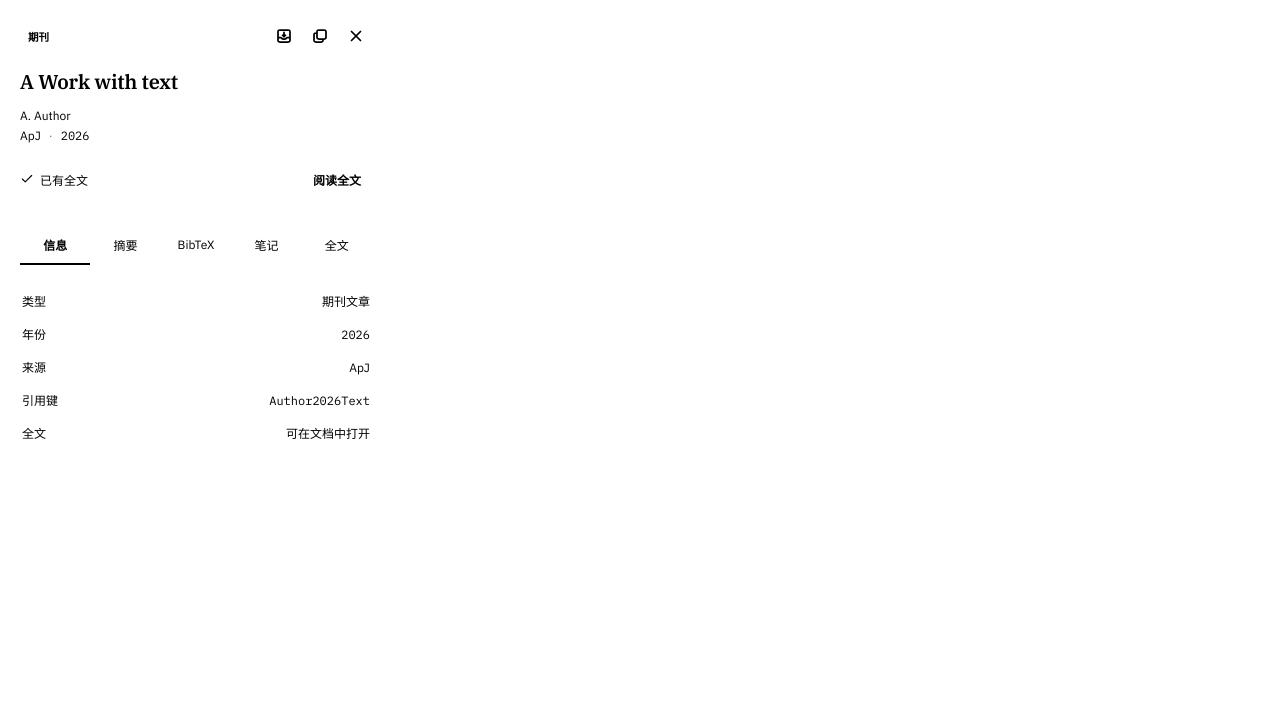
Scenario: RefDetail text Docs (ticket 25) › delete confirmation count for a text Doc › a never-generated draft with no annotations directory is a known zero, like the Copilot card
Click the tab "全文".
click(337, 246)  # box [302,227,372,265]
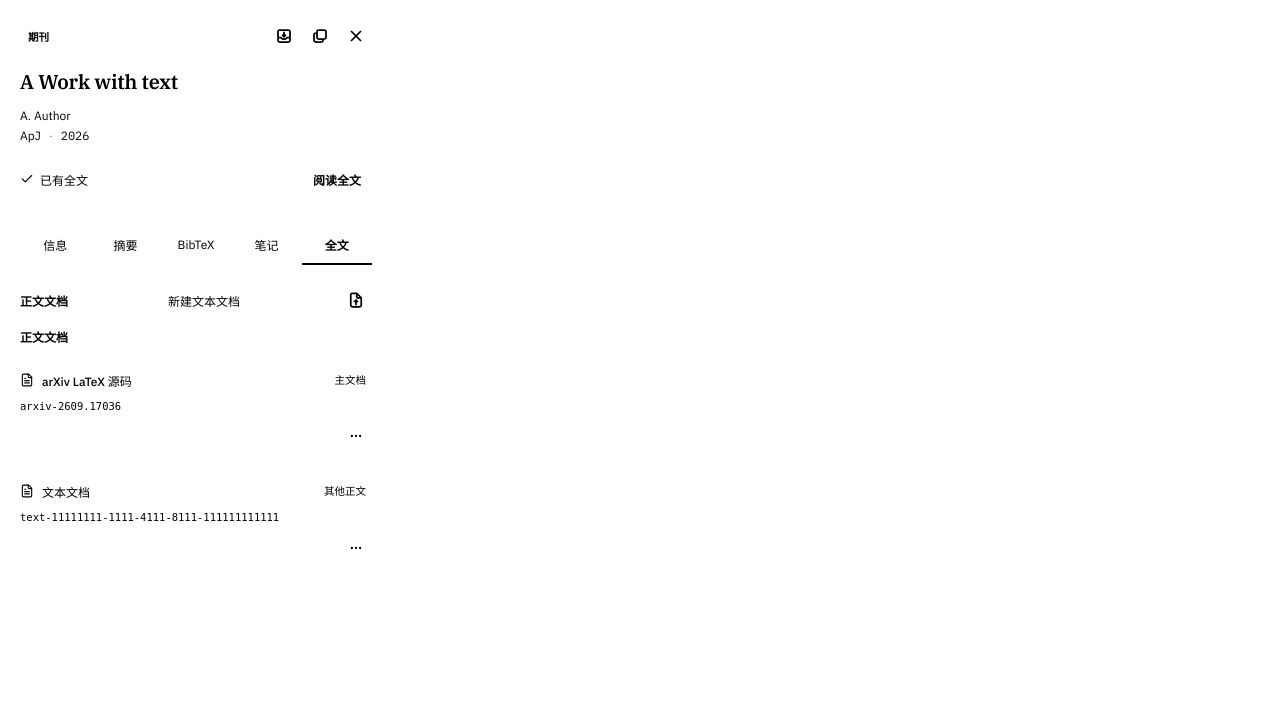
Now the text "文本文档" is shown, box [42,483,90,500]
Click the heading named "文档操作" below "其他正文".
click(356, 548)  # box [349,540,363,554]
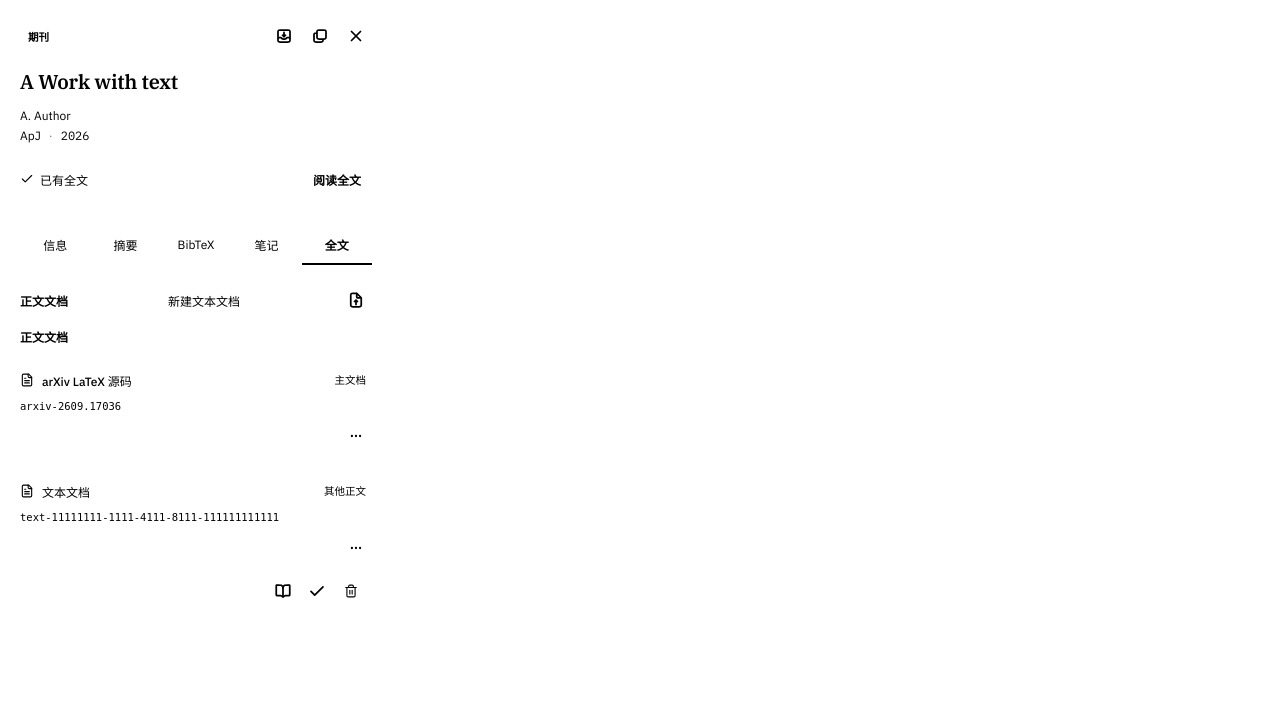
Click the button named "删除此文档（含其标注）".
click(351, 590)  # box [335,574,367,606]
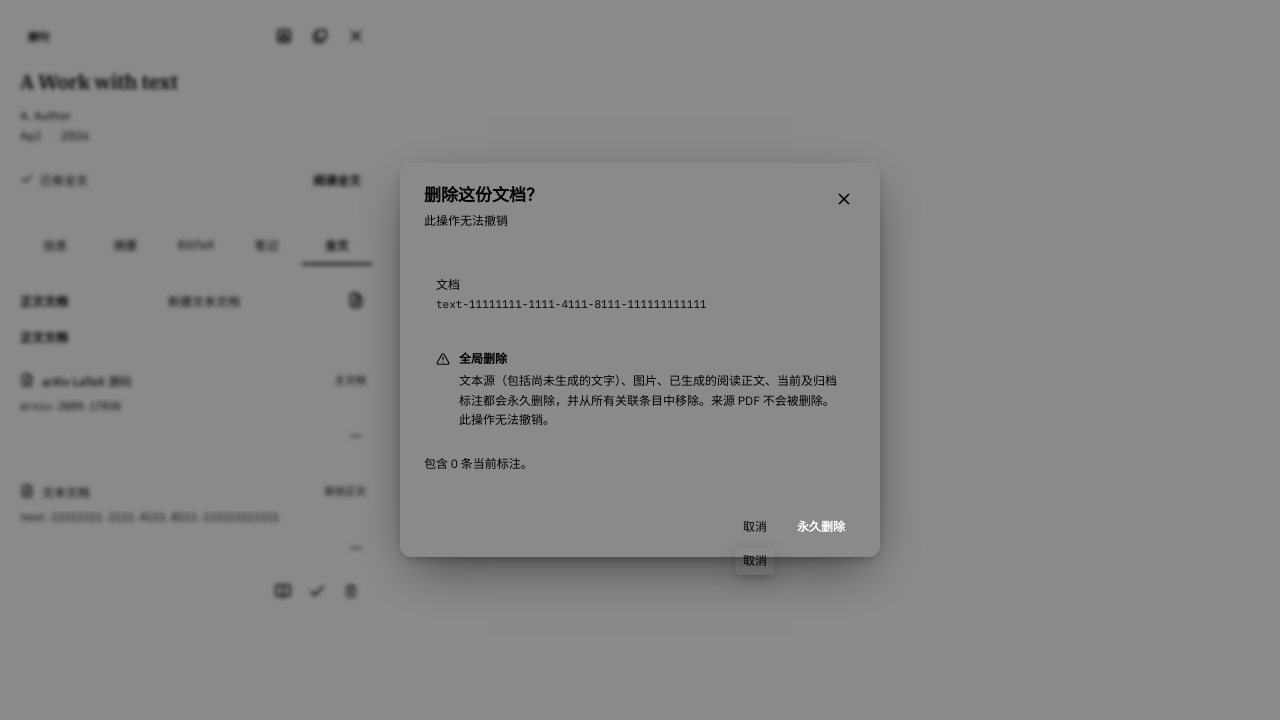
Now the text "包含 0 条当前标注。" is shown, box [424,456,533,471]
Now the text "包括尚未生成的文字" is shown, box [459,373,837,427]
